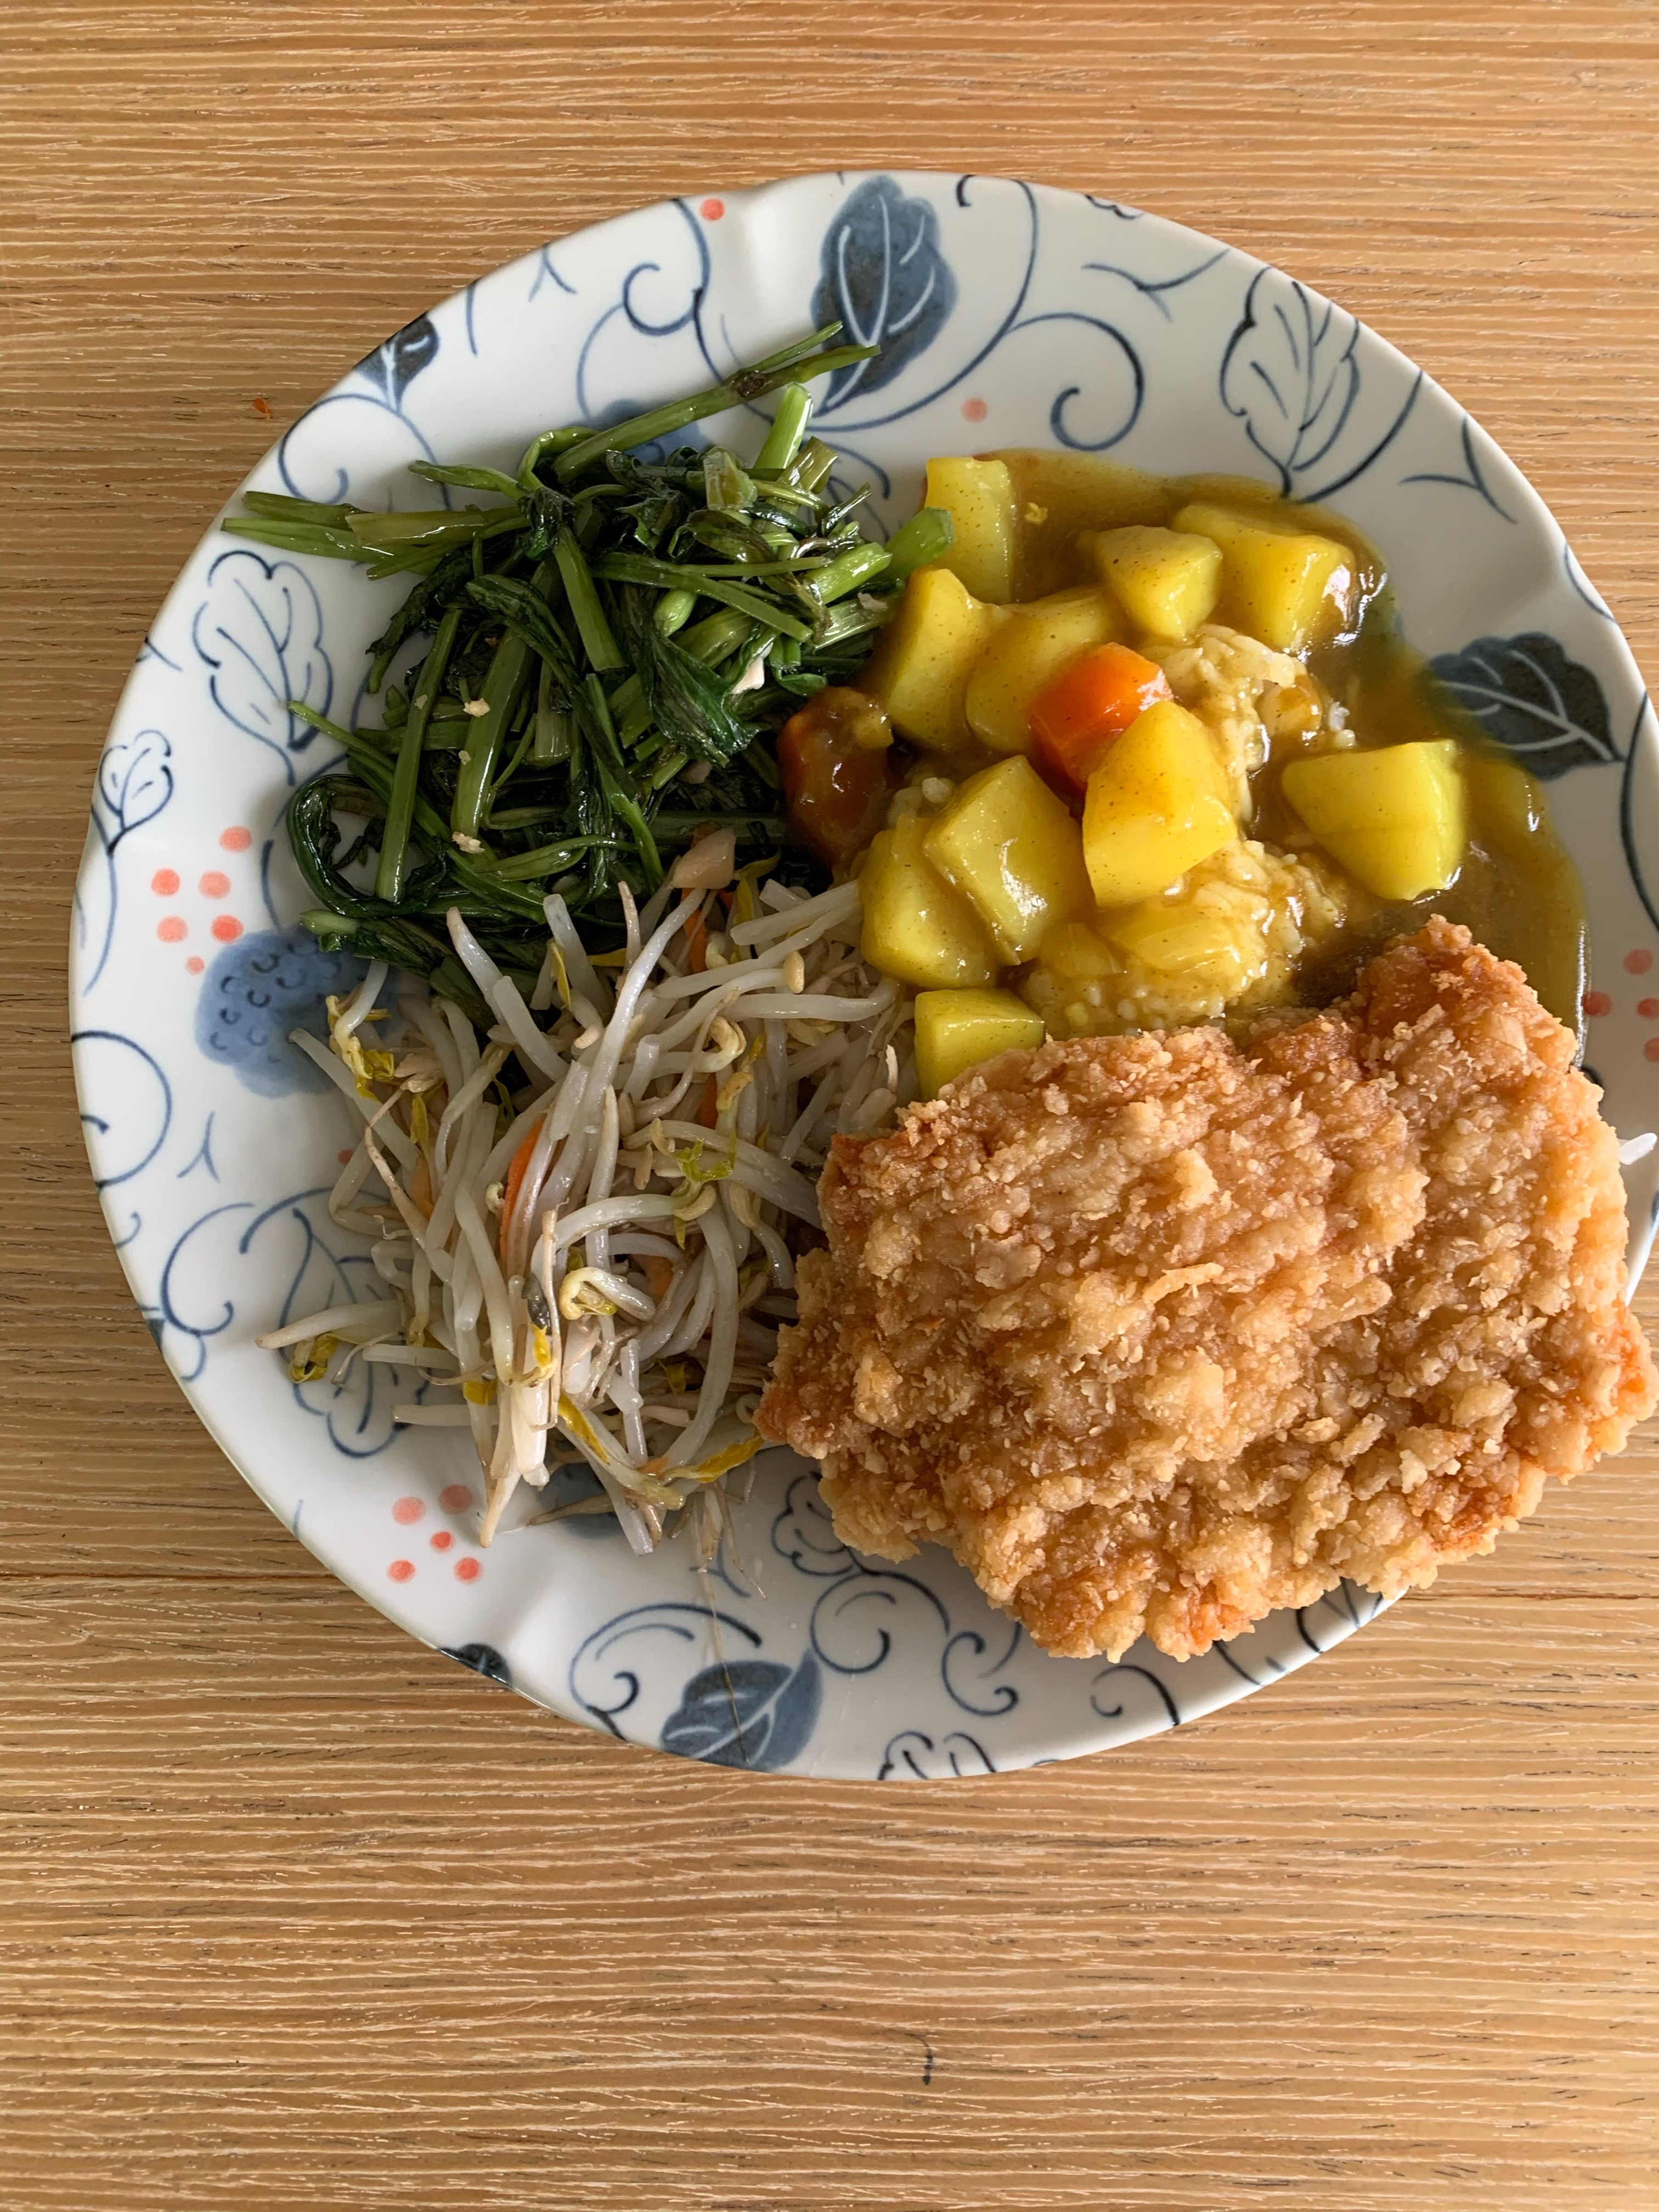curry: (922, 463, 1392, 1003)
fried_chicken: (857, 1024, 1572, 1564)
mung_bean_sprouts: (338, 892, 817, 1524)
water_spinach: (369, 455, 840, 880)
